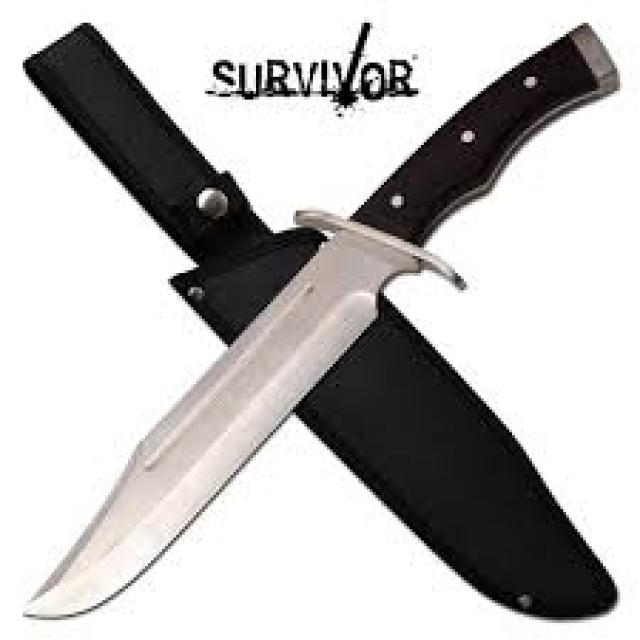knives: (17, 14, 626, 629)
